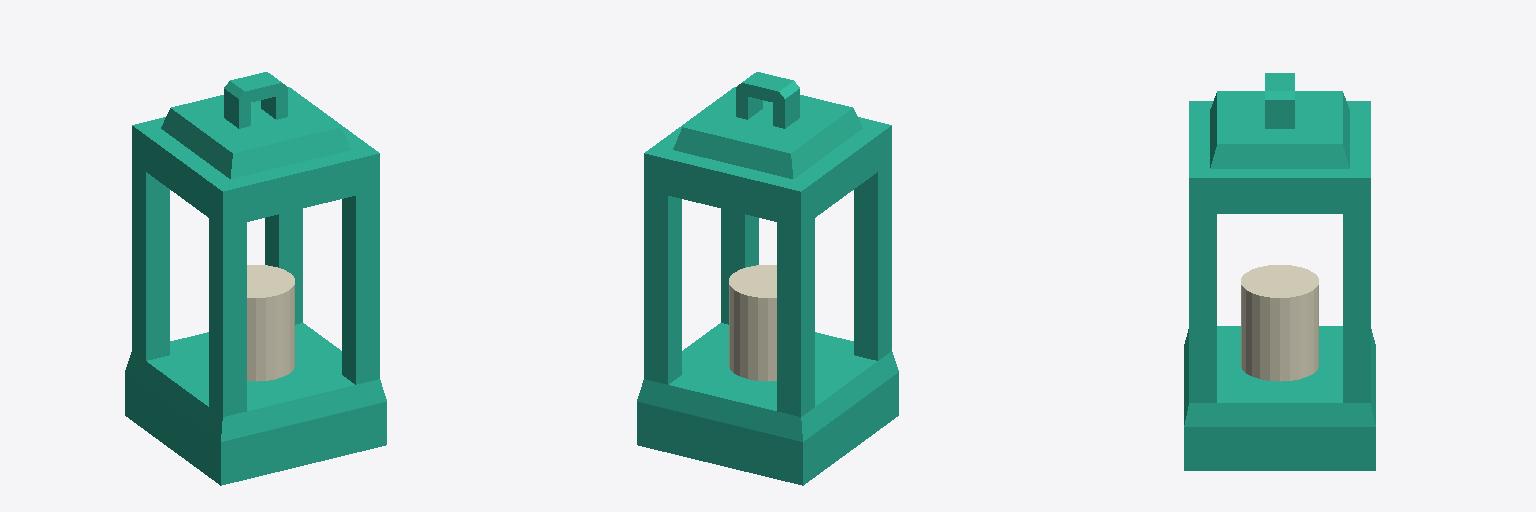
Rendered from lanternCandle.obj.
3 renders of one model, left to right at view 1: azimuth 30°, elevation 25°; view 2: azimuth 150°, elevation 25°; view 3: azimuth 270°, elevation 25°, orthographic.
Visible parts, largest first — view 1: lanternCandle; view 2: lanternCandle; view 3: lanternCandle.
Part boxes in pixels (bbox=[...]): lanternCandle: bbox=[125, 72, 386, 485]; lanternCandle: bbox=[637, 72, 898, 485]; lanternCandle: bbox=[1184, 73, 1375, 470].
Size of the model in its own units: 0.1459 by 0.2923 by 0.1459.